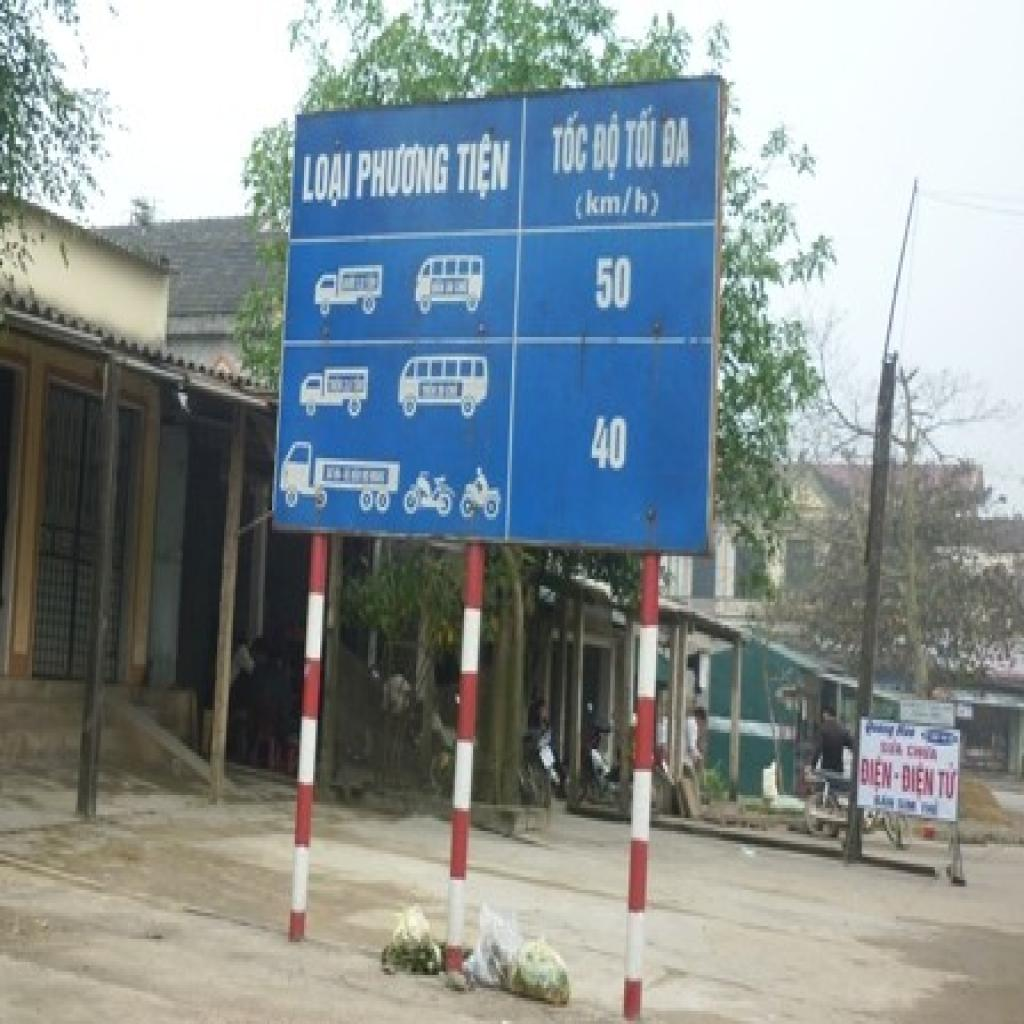text: (354, 141, 453, 203), (453, 131, 514, 206), (574, 183, 663, 226), (302, 150, 354, 212), (549, 111, 592, 177), (590, 112, 624, 186), (594, 255, 636, 314), (624, 105, 658, 173), (590, 416, 628, 474), (660, 118, 692, 173), (859, 752, 896, 798), (901, 759, 937, 805), (937, 762, 960, 805), (908, 743, 924, 762)
